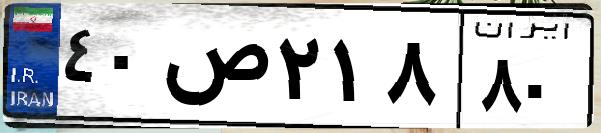0: (525, 38, 570, 115), (110, 28, 158, 98)
1: (330, 28, 385, 110)
2: (270, 28, 330, 110)
4: (57, 26, 110, 100)
8: (385, 28, 445, 110), (475, 38, 525, 113)
ص: (158, 20, 270, 120)
